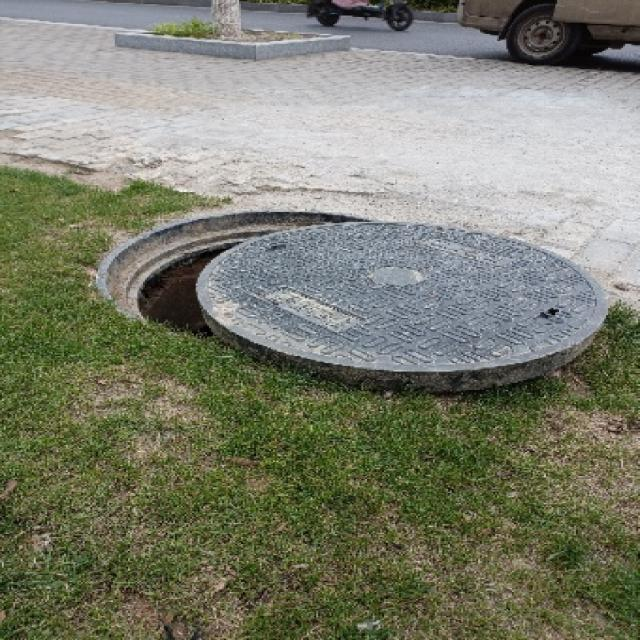Faulty: (81, 182, 624, 420)
